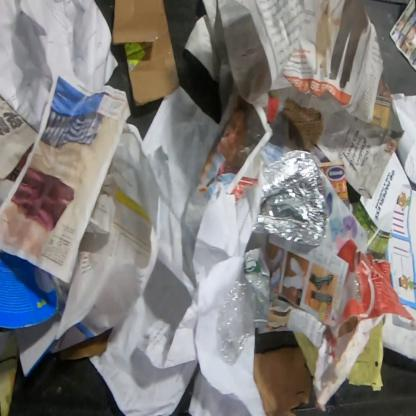cardboard: (111, 0, 181, 108), (253, 346, 313, 415), (279, 98, 324, 151), (56, 328, 113, 361)
metal: (252, 148, 331, 247)
rigid_plastic: (214, 254, 272, 367), (334, 271, 362, 324)
